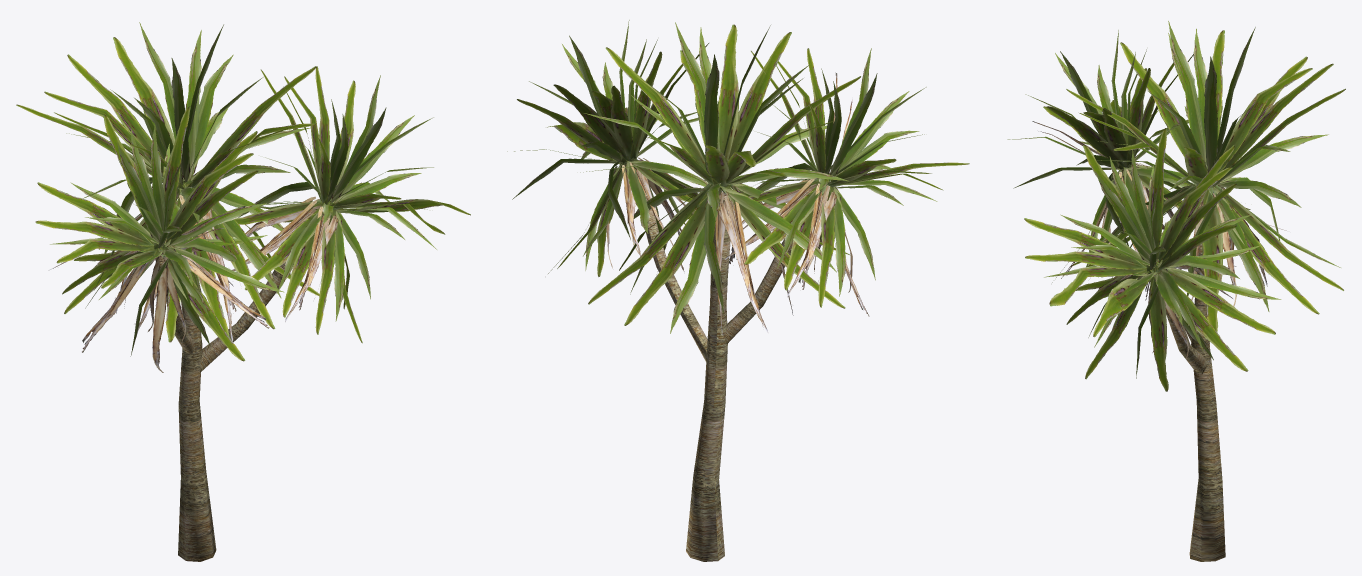
The model's file is worn palm.dae.
3 renders of one model, left to right at view 1: azimuth 30°, elevation 25°; view 2: azimuth 150°, elevation 25°; view 3: azimuth 270°, elevation 25°, orthographic. The views are drawn at different scales.
Visible parts, largest first — view 1: meshU3D; view 2: meshU3D; view 3: meshU3D.
Boxes of the visible parts, left/top/right/bottom form: meshU3D: left=16, top=22, right=470, bottom=561; meshU3D: left=507, top=20, right=969, bottom=561; meshU3D: left=1007, top=21, right=1345, bottom=561.
Bounding box in the file's own units: 222 × 267 × 163.
